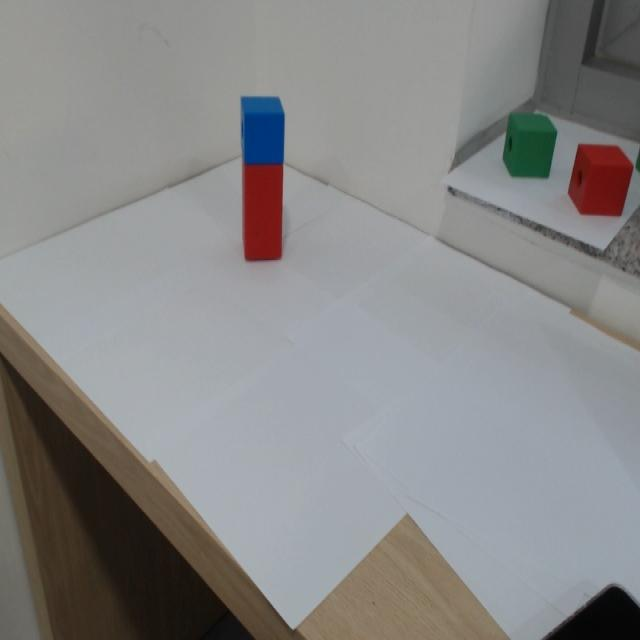cube: (232, 91, 298, 167)
